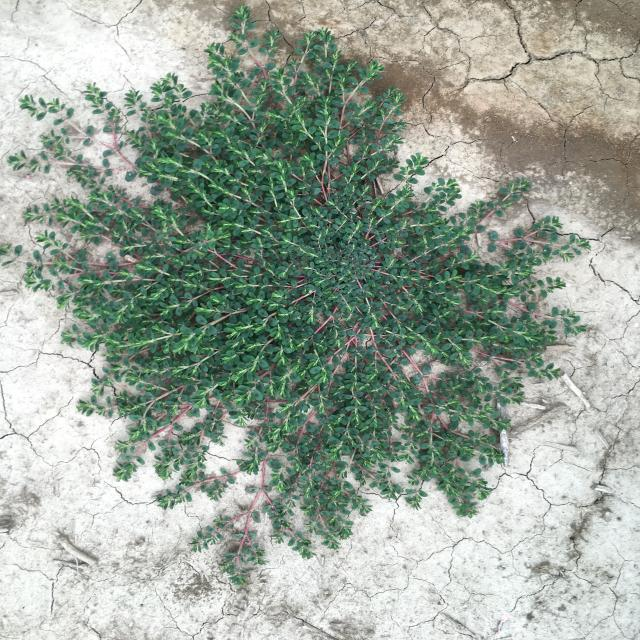SpottedSpurge: (1, 4, 591, 585)
